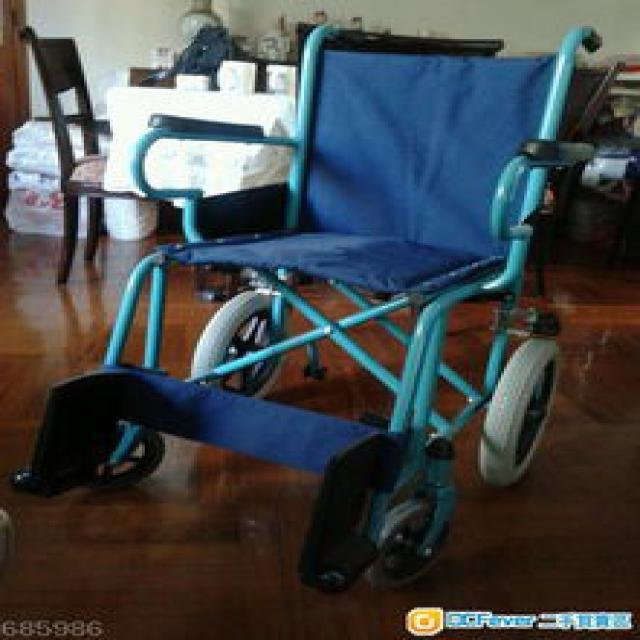wheelchair: (3, 12, 614, 568)
